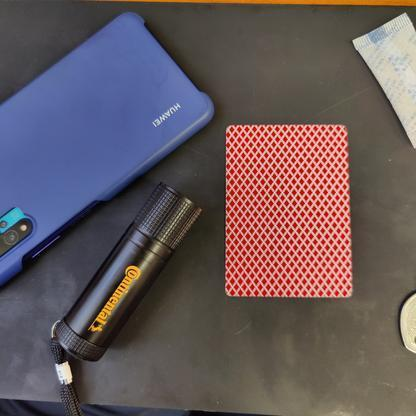card: (218, 118, 360, 302)
